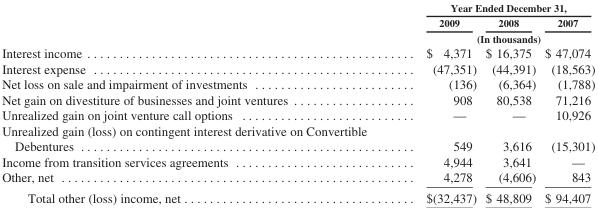table: (1, 1, 594, 204)
table column: (1, 1, 395, 204), (395, 1, 480, 204), (480, 1, 539, 204), (539, 1, 594, 204)
table column header: (1, 1, 594, 45)
table row: (1, 122, 594, 153), (1, 169, 594, 187), (1, 187, 594, 204), (1, 60, 594, 76), (1, 91, 594, 107), (1, 153, 594, 169), (1, 15, 594, 30), (1, 30, 594, 45), (1, 45, 594, 60), (1, 76, 594, 91), (1, 107, 594, 122), (1, 1, 594, 15)
table spanning cell: (395, 30, 594, 45), (395, 1, 594, 15)
